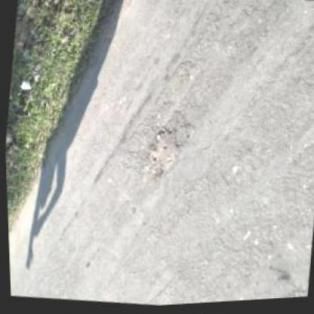Hueco: (141, 126, 184, 180)
